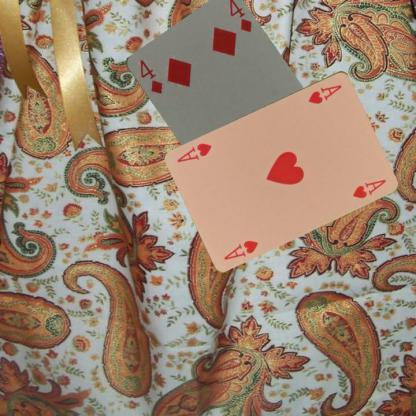4d: (137, 57, 163, 95)
Ah: (221, 237, 260, 260), (306, 82, 343, 105)
